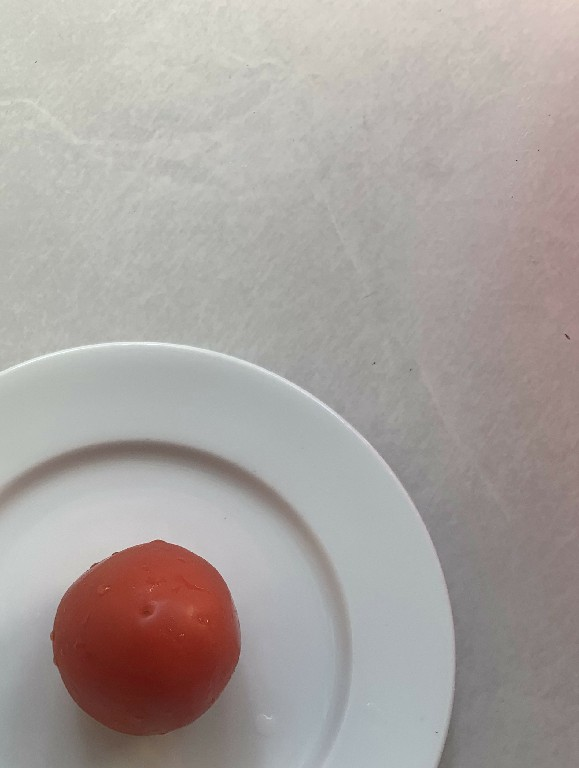OK: (40, 531, 248, 744)
